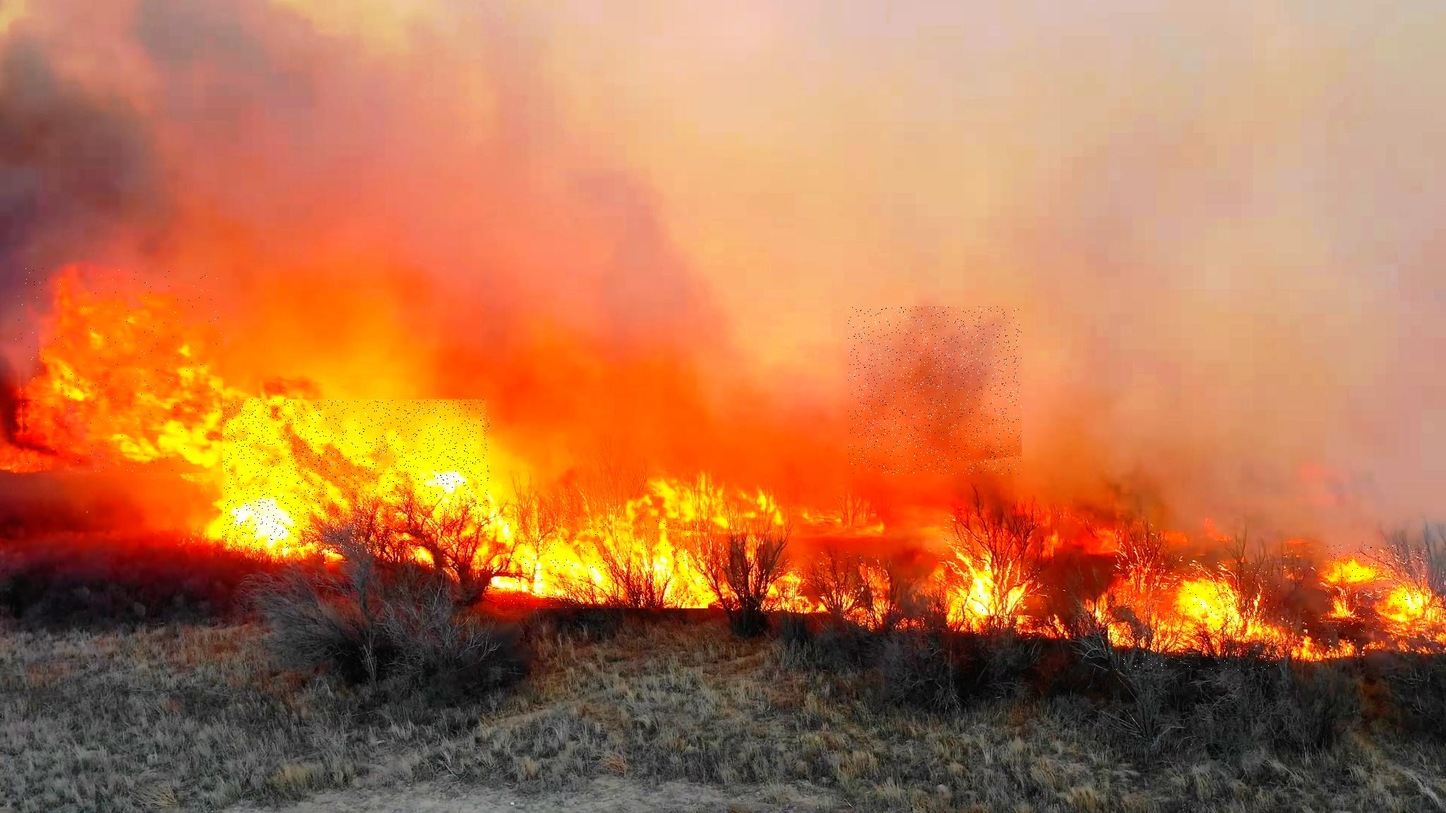fire: (15, 268, 223, 473), (222, 399, 489, 553), (848, 306, 1022, 474), (498, 517, 708, 608), (1108, 563, 1280, 670), (941, 535, 1053, 615), (1326, 545, 1428, 632)
